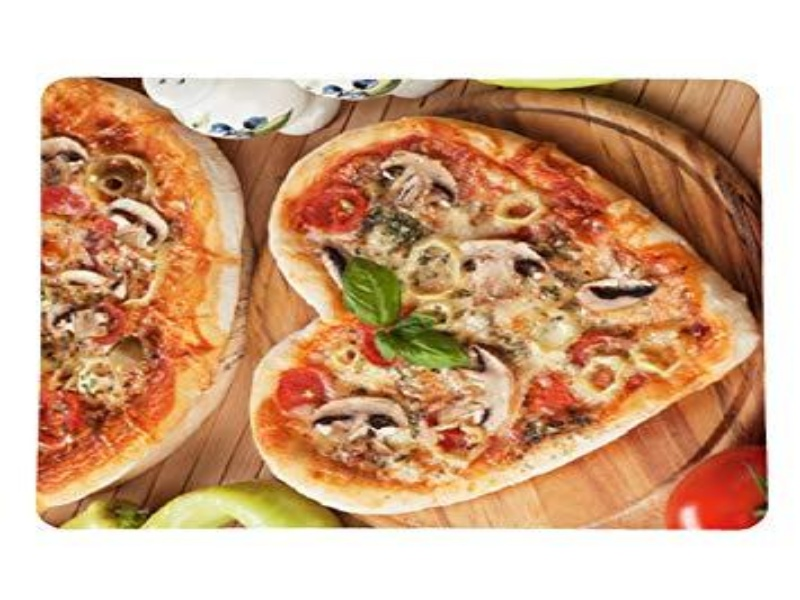champignon: (438, 343, 528, 439), (376, 141, 472, 226), (453, 237, 557, 299), (306, 395, 419, 451), (100, 190, 181, 252)
